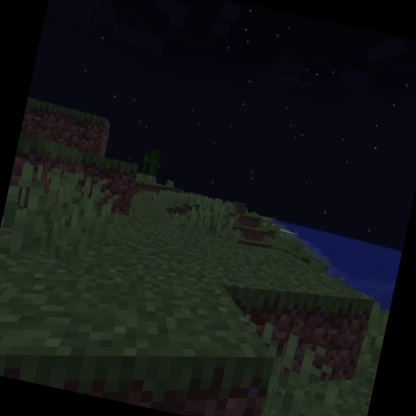spider: (89, 179, 264, 349)
